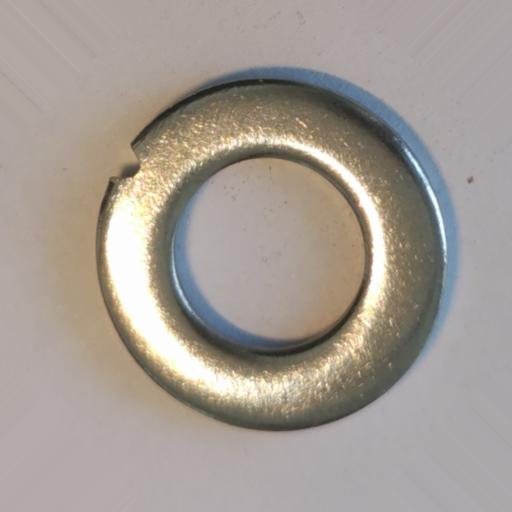burr: (109, 141, 141, 180)
